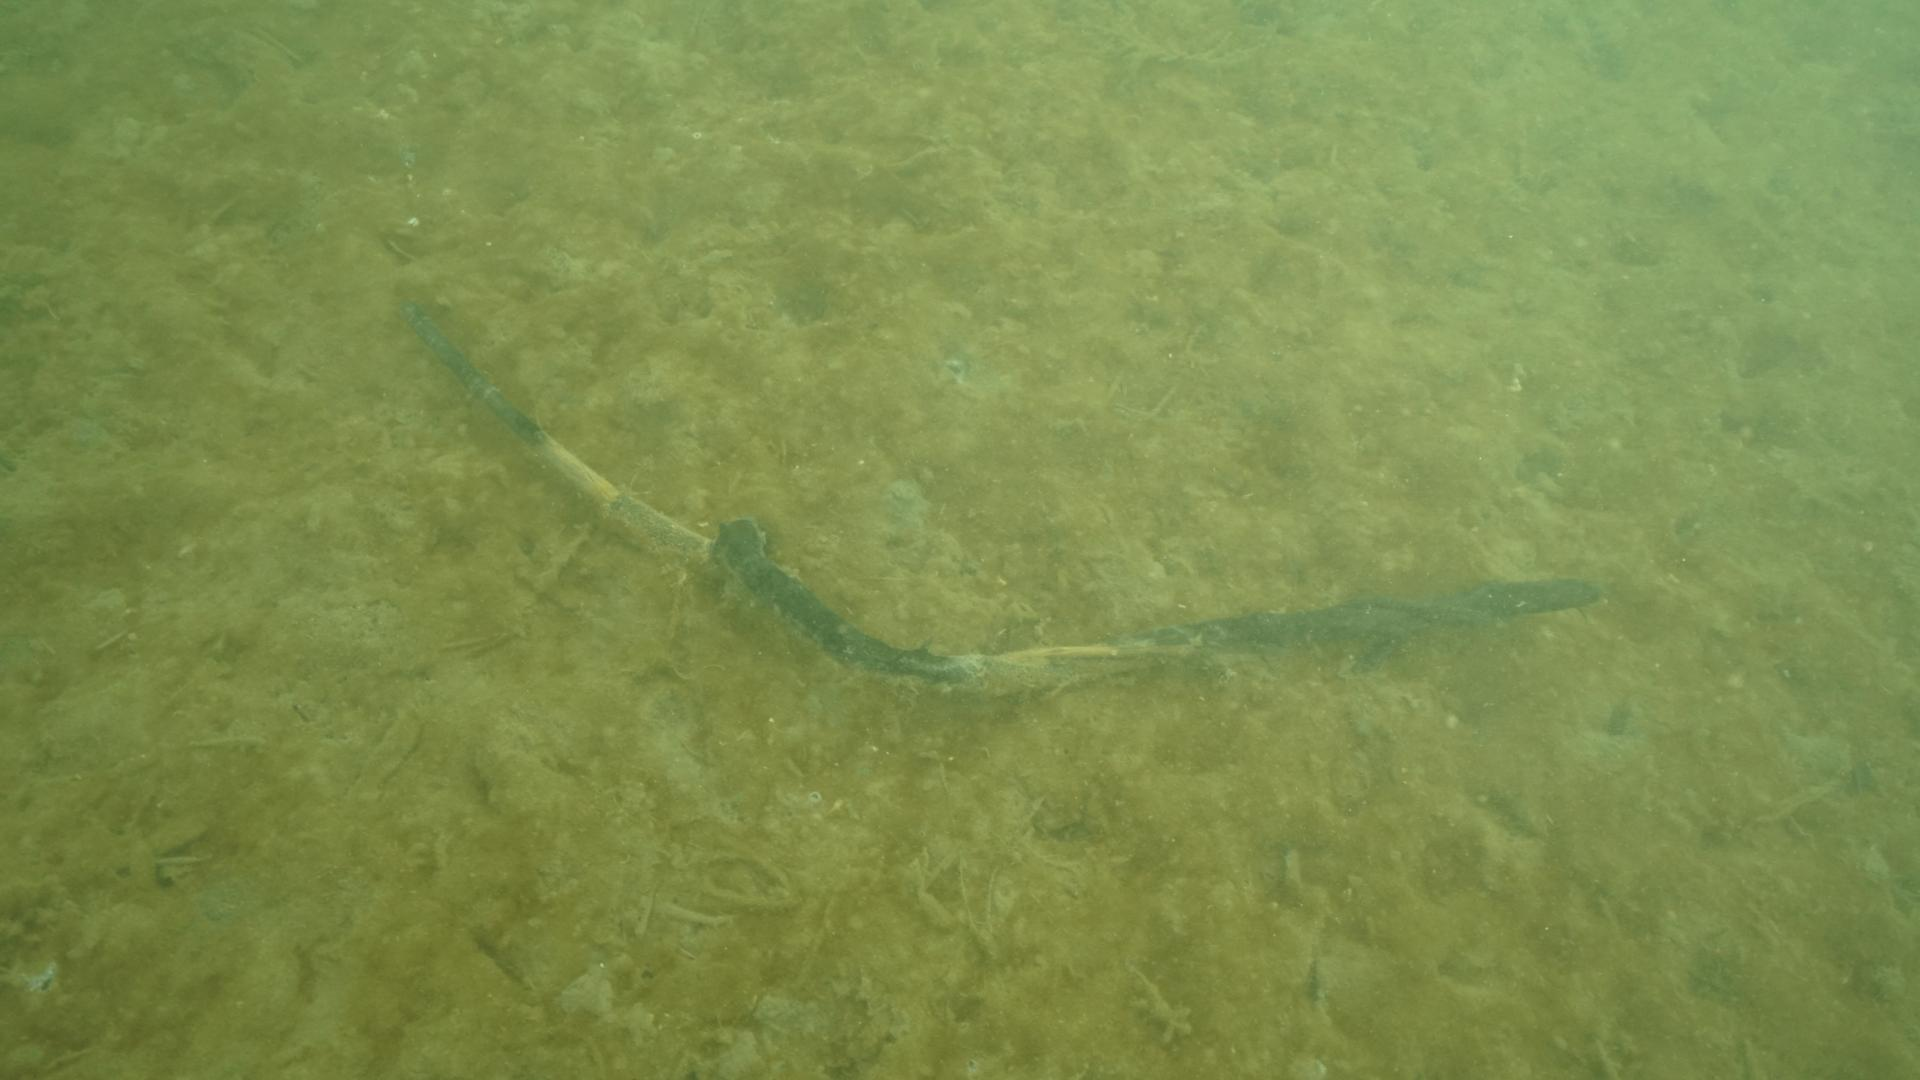wood: (392, 298, 1598, 686)
